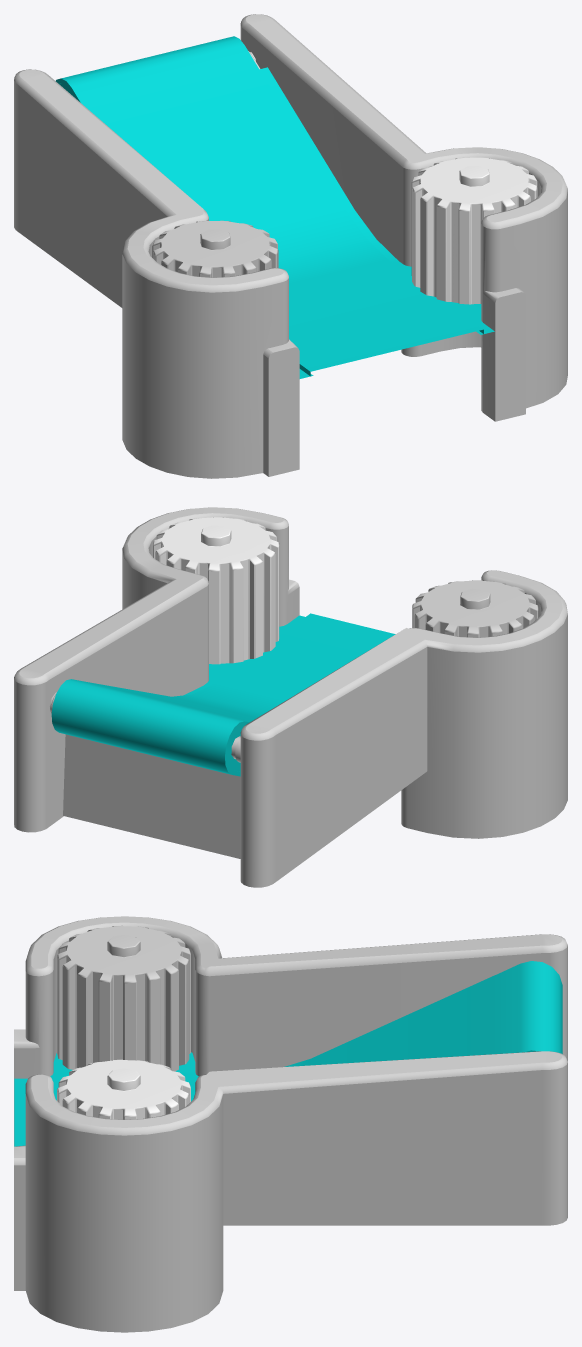
The model's file is BeltPortSenderInternalVariant.gltf.
3 views of the same model, one above another, from view 1: azimuth 30°, elevation 25°; view 2: azimuth 150°, elevation 25°; view 3: azimuth 270°, elevation 25° (orthographic). The views are drawn at different scales.
Parts seen in each view (by area): view 1: BeltPort_Sender_Main_LOD0, BeltPort_GearR_Main_LOD0, BeltPort_GearL_Main_LOD0; view 2: BeltPort_Sender_Main_LOD0, BeltPort_GearR_Main_LOD0, BeltPort_GearL_Main_LOD0; view 3: BeltPort_Sender_Main_LOD0, BeltPort_GearL_Main_LOD0, BeltPort_GearR_Main_LOD0.
Part boxes in pixels (x1,y1,x2,y2): BeltPort_Sender_Main_LOD0: (14, 14, 567, 478); BeltPort_GearR_Main_LOD0: (411, 157, 537, 304); BeltPort_GearL_Main_LOD0: (152, 220, 278, 277); BeltPort_Sender_Main_LOD0: (14, 507, 567, 887); BeltPort_GearR_Main_LOD0: (153, 517, 279, 664); BeltPort_GearL_Main_LOD0: (412, 580, 538, 637); BeltPort_Sender_Main_LOD0: (14, 916, 567, 1332); BeltPort_GearL_Main_LOD0: (57, 925, 190, 1071); BeltPort_GearR_Main_LOD0: (57, 1059, 190, 1119).
Bounding box in the file's own units: 0.9241 × 0.45 × 1.
